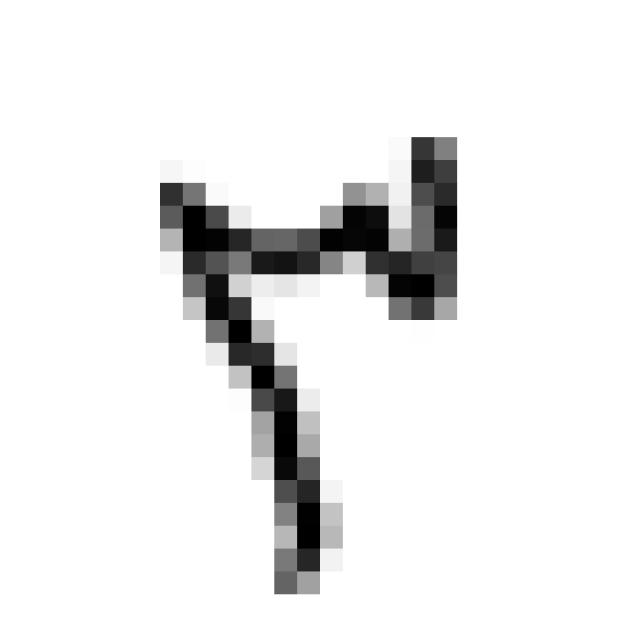3 -three-: (137, 123, 477, 608)
